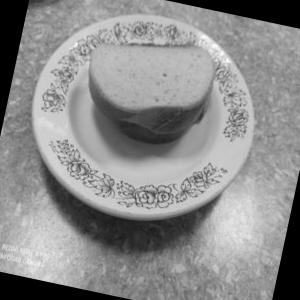bread: (50, 11, 236, 160)
